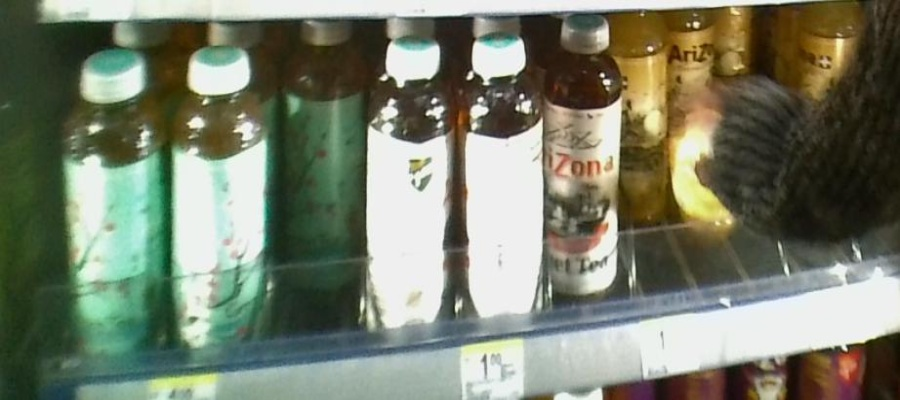bottle: (59, 48, 168, 378), (171, 49, 273, 378), (454, 31, 547, 334), (280, 18, 365, 332), (366, 25, 451, 338), (549, 14, 621, 316), (623, 3, 673, 226)
